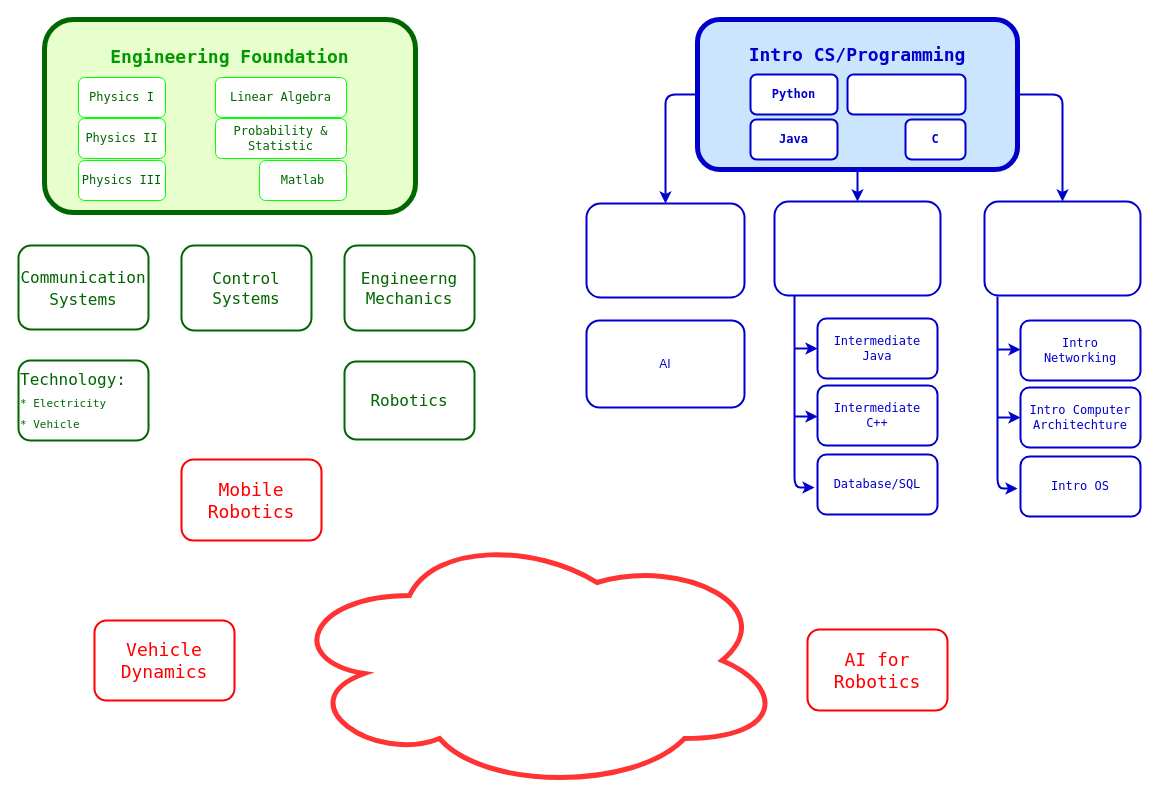
Image size: 1158x810. Some labels were removed from this diagram. Here are the shapes that lost their labels. From the top down, the centre of each, then its label:
At (x=906, y=94): "Intro Computer Systems".
At (x=665, y=250): "Data Structures and Algorithms".
At (x=857, y=248): "Software Construction (with Design and Patterns)".
At (x=1062, y=248): "Computer Systems & System Programming".
At (x=534, y=660): "Software for Autonomous Vehicles".
